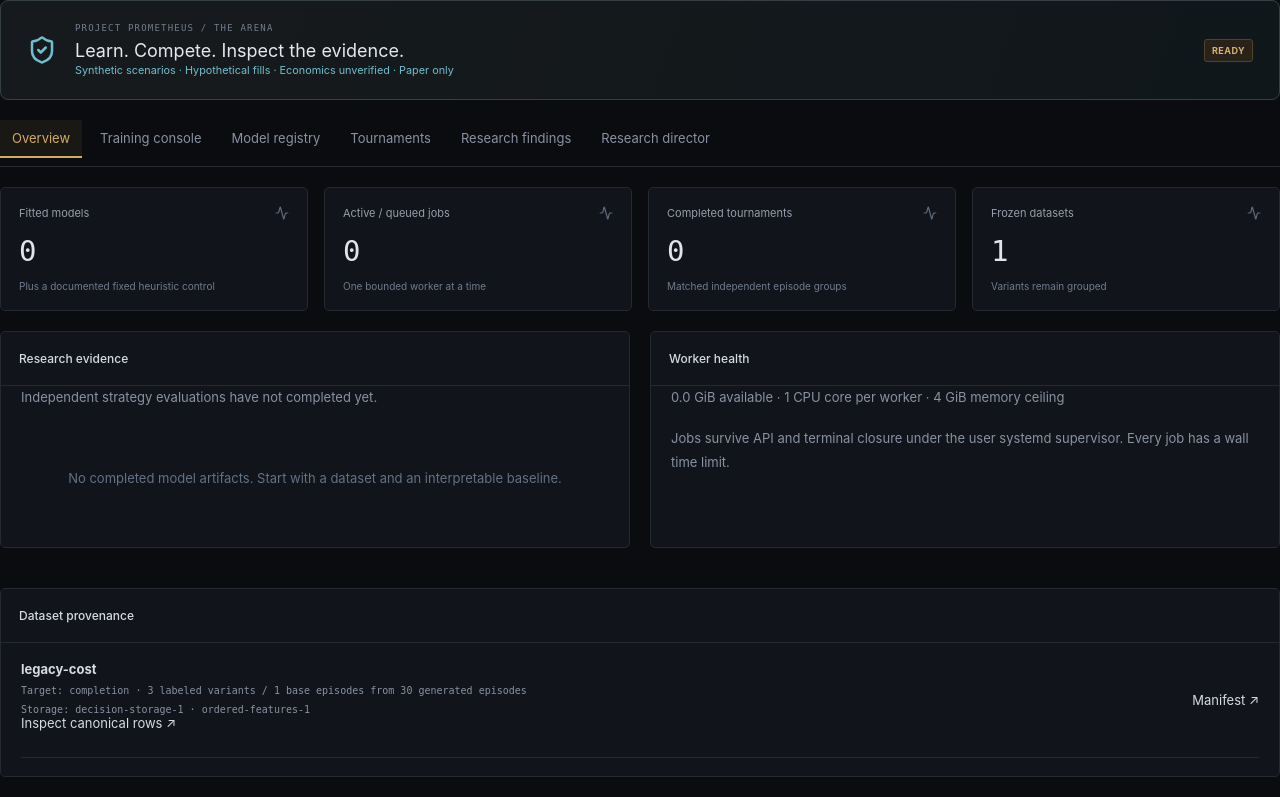
blocks cost training on legacy financing labels
This screenshot has width=1280, height=797.
Step 1. Click the tab "Training console" → point(151, 139), box x1=88 y1=120 x2=214 y2=158
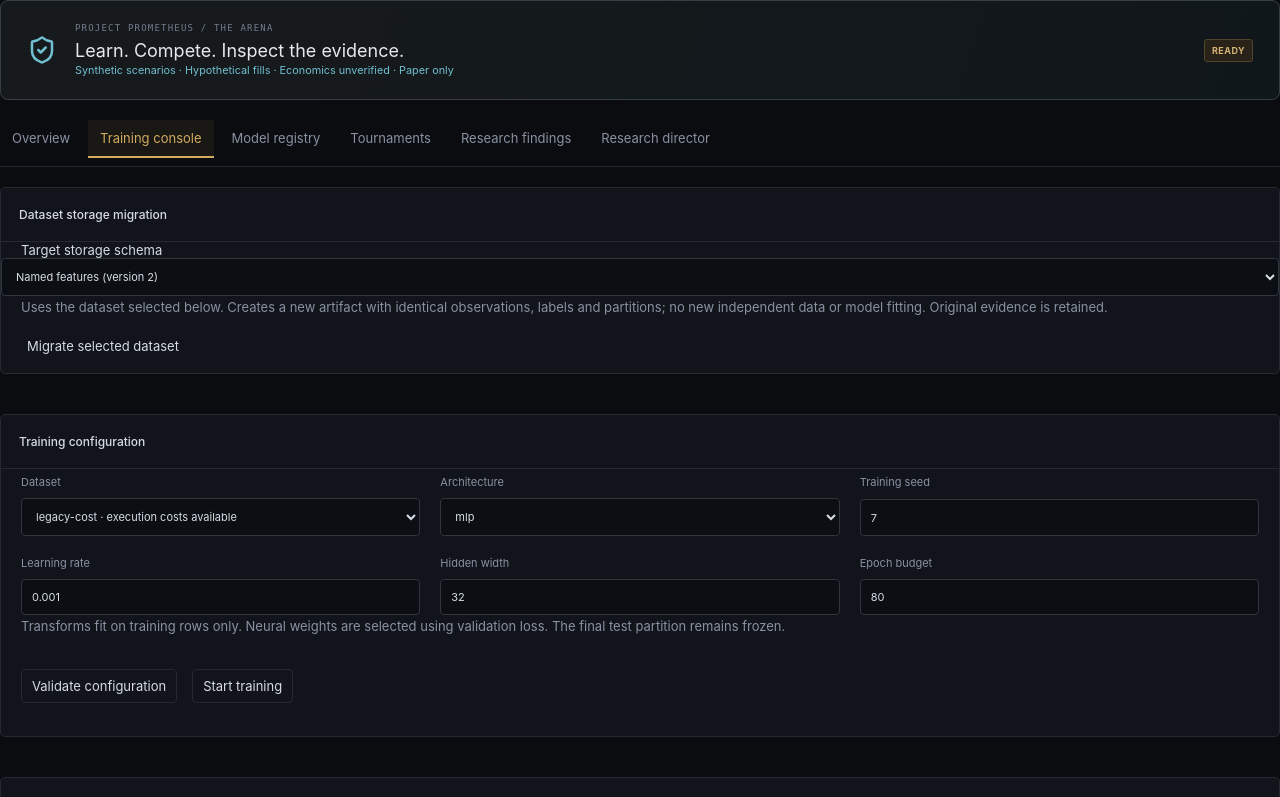
Step 2. Select "cost_mlp" in the dropdown labelled "Architecture" → point(640, 517), box x1=440 y1=498 x2=840 y2=536
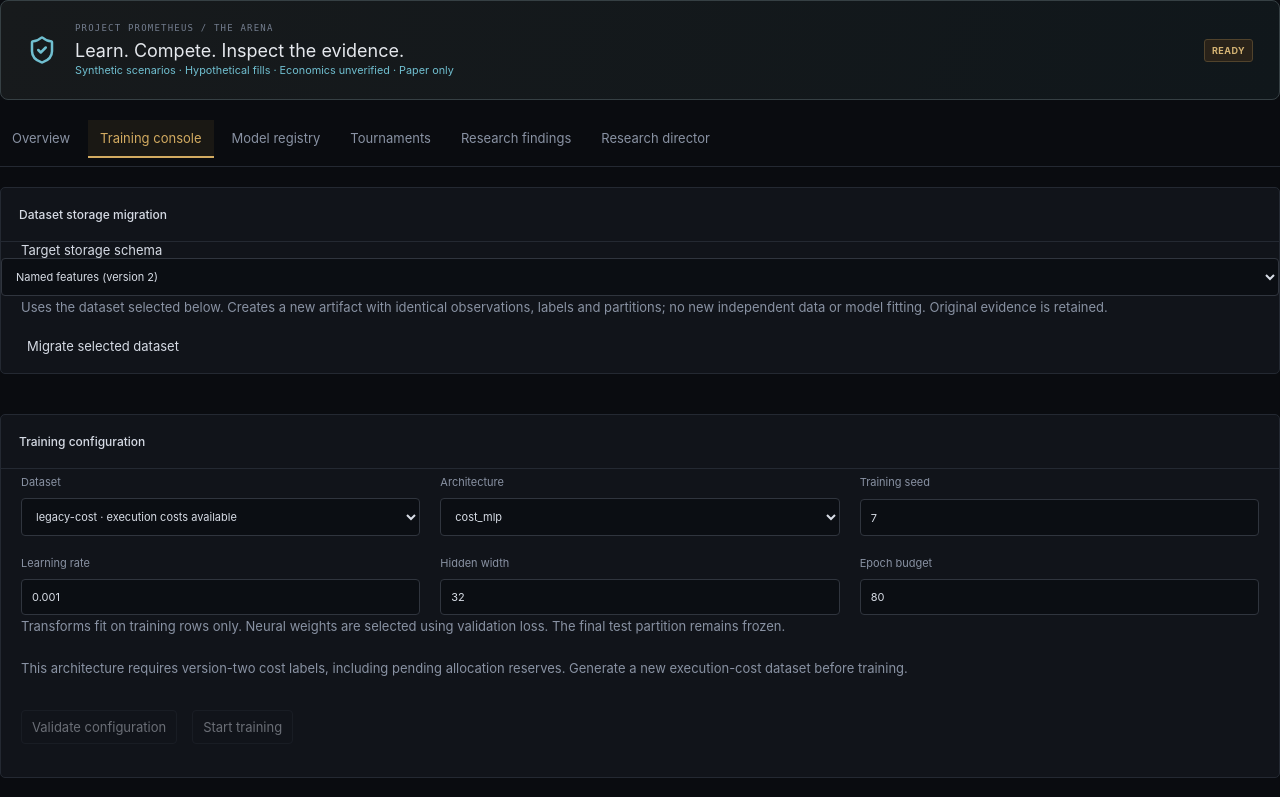
expect the message shows "version-two cost labels": met, box x1=21 y1=660 x2=908 y2=676
expect the button "Start training" is disabled: met, box x1=192 y1=710 x2=293 y2=744
expect the button "Validate configuration" is disabled: met, box x1=21 y1=710 x2=177 y2=744
